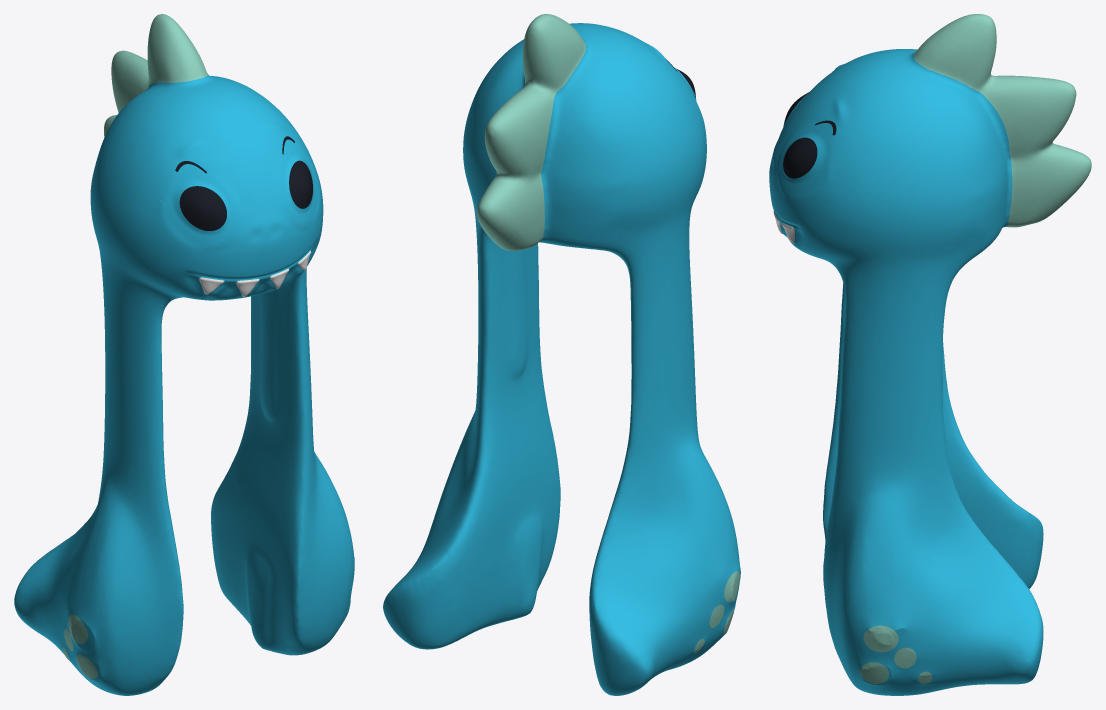
File: dinossauroscopio.glb
3 views of the same model, side by side, from view 1: azimuth 30°, elevation 25°; view 2: azimuth 150°, elevation 25°; view 3: azimuth 270°, elevation 25° (orthographic). The views are drawn at different scales.
Visible parts, largest first — view 1: dinossauroscopio; view 2: dinossauroscopio; view 3: dinossauroscopio.
Part boxes in pixels (x1,y1,x2,y2): dinossauroscopio: [14, 14, 354, 695]; dinossauroscopio: [383, 14, 740, 695]; dinossauroscopio: [769, 14, 1091, 695].
Size of the model in its own units: 0.8175 by 1.75 by 0.8087.
